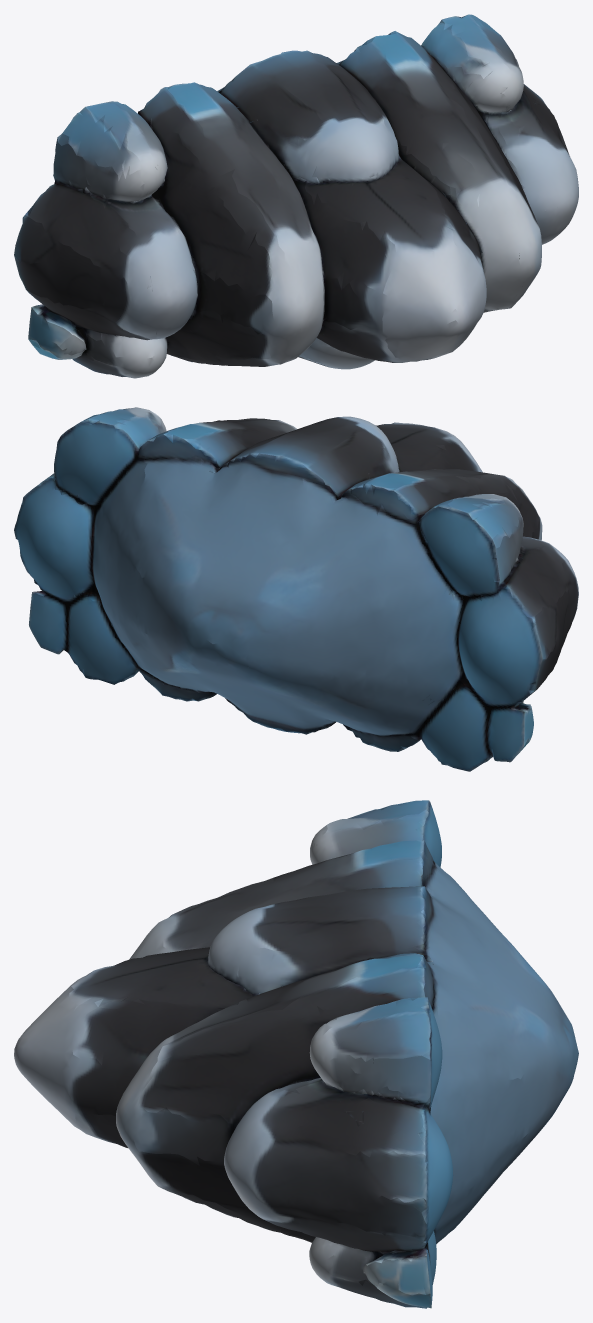
Rendered from Hollow_IceRubble.glb.
3 views of the same model, one above another, from view 1: azimuth 30°, elevation 25°; view 2: azimuth 150°, elevation 25°; view 3: azimuth 270°, elevation 25° (orthographic). The views are drawn at different scales.
Parts seen in each view (by area): view 1: Cave_IceRubble; view 2: Cave_IceRubble; view 3: Cave_IceRubble.
Part boxes in pixels (<box>): Cave_IceRubble: <box>14,14,578,378</box>; Cave_IceRubble: <box>14,407,578,771</box>; Cave_IceRubble: <box>14,800,578,1308</box>.
Bounding box in the file's own units: 0.9038 × 0.45 × 0.7335.
Materials: 1 (1 with a texture image).
